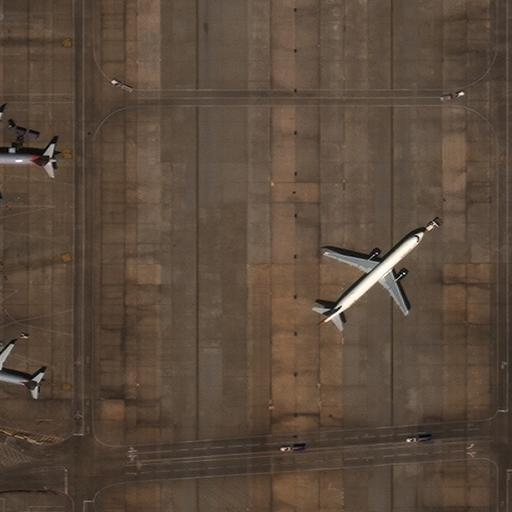Medium Civil Transport: (323, 230, 424, 322), (0, 114, 57, 201), (0, 343, 42, 405)
